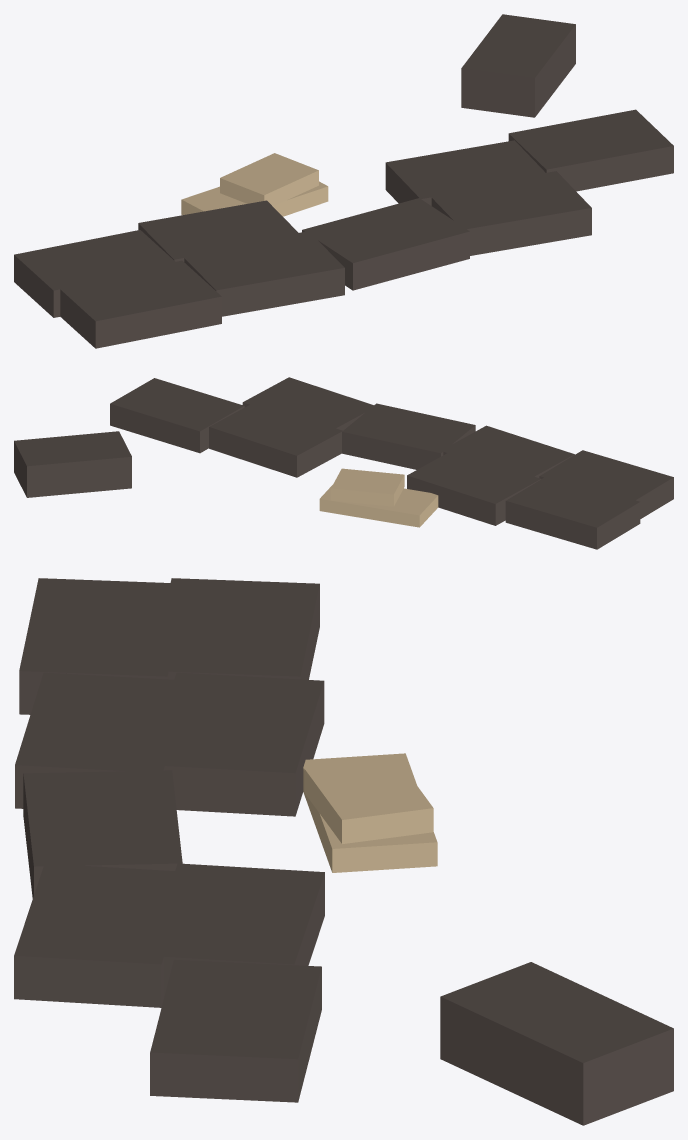
Rendered from SM_PretilTramo_v1_Talud_e3_Brecha_LOD1.fbx.
The picture shows the model from 3 angles, top to bottom: view 1: azimuth 30°, elevation 25°; view 2: azimuth 150°, elevation 25°; view 3: azimuth 270°, elevation 25°; orthographic projection. The views are drawn at different scales.
Visible parts, largest first — view 1: SM_pretil_azotea_v7_LOD1; view 2: SM_pretil_azotea_v7_LOD1; view 3: SM_pretil_azotea_v7_LOD1.
Boxes of the visible parts, bbox=[...] form: SM_pretil_azotea_v7_LOD1: bbox=[14, 14, 673, 348]; SM_pretil_azotea_v7_LOD1: bbox=[14, 377, 673, 549]; SM_pretil_azotea_v7_LOD1: bbox=[14, 578, 673, 1125].
Size of the model in its own units: 4.49 by 0.26 by 2.48.
